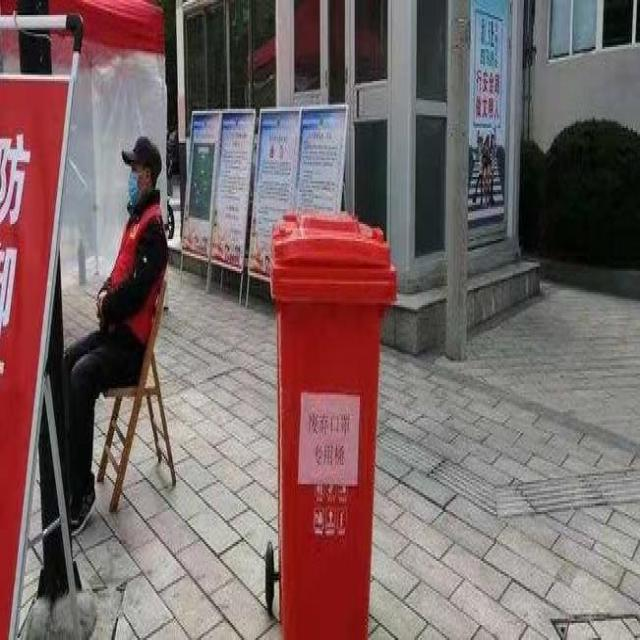garbage_bin: (268, 209, 397, 638)
